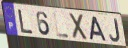6: (36, 11, 51, 37)
A: (89, 16, 108, 43)
J: (109, 18, 122, 44)
L: (53, 12, 70, 39), (17, 8, 34, 35)
X: (68, 12, 89, 42)
